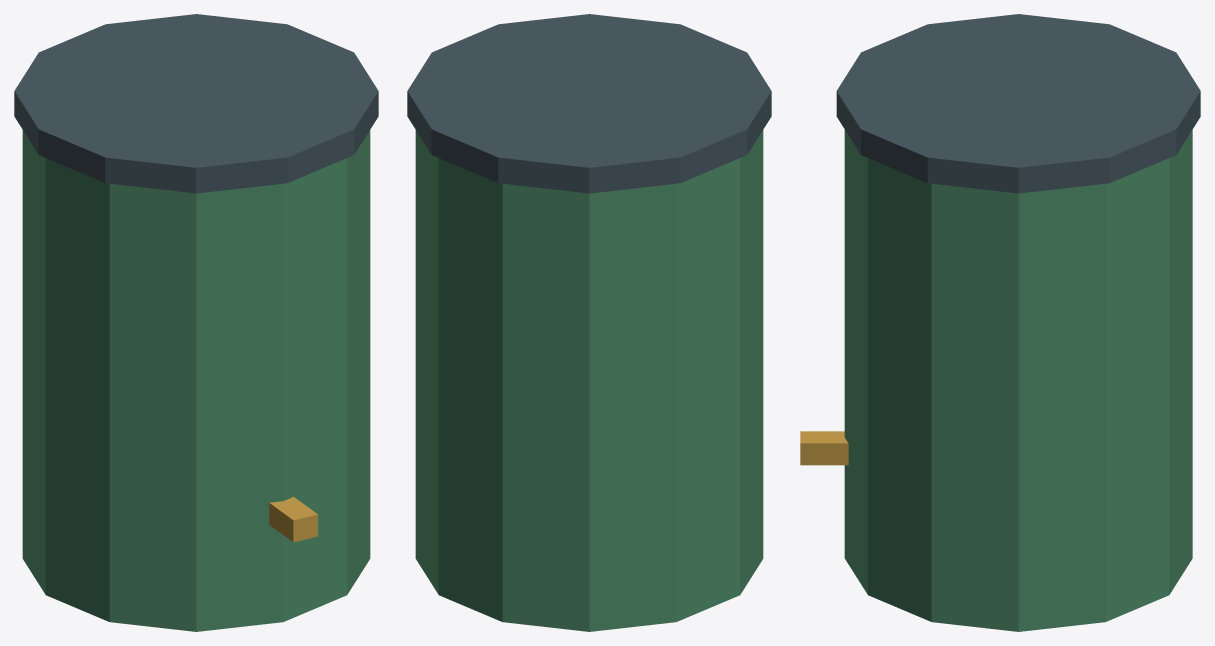
The model's file is water_butt.glb.
3 renders of one model, left to right at view 1: azimuth 30°, elevation 25°; view 2: azimuth 150°, elevation 25°; view 3: azimuth 270°, elevation 25°, orthographic.
Visible parts, largest first — view 1: water_butt; view 2: water_butt; view 3: water_butt.
Boxes of the visible parts, x1,y1,x2,y2 form: water_butt: (14,14,378,631); water_butt: (407,14,771,631); water_butt: (800,14,1200,631).
Bounding box in the file's own units: 0.9 × 1.28 × 0.99.
